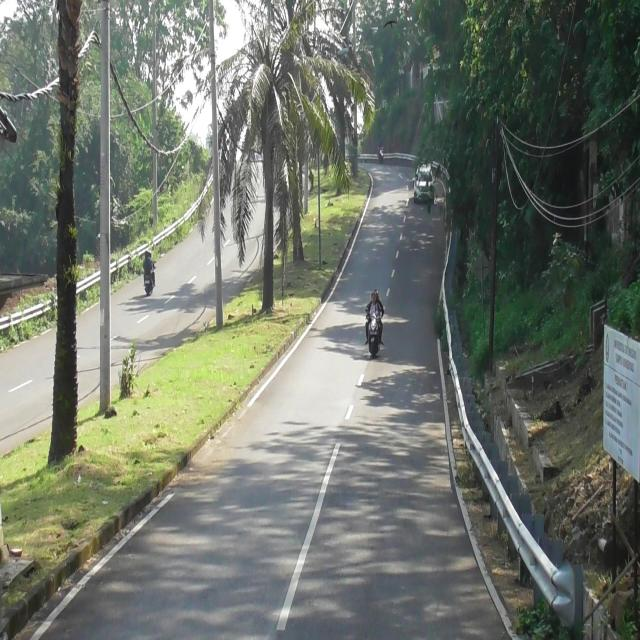motorcycle: (366, 307, 382, 357), (144, 272, 155, 295), (378, 150, 385, 166)
person: (365, 289, 384, 346), (366, 293, 381, 323), (143, 250, 151, 275), (148, 249, 155, 274), (378, 139, 384, 150)
rider_region: (366, 288, 383, 356), (142, 249, 156, 295), (376, 136, 386, 166)
